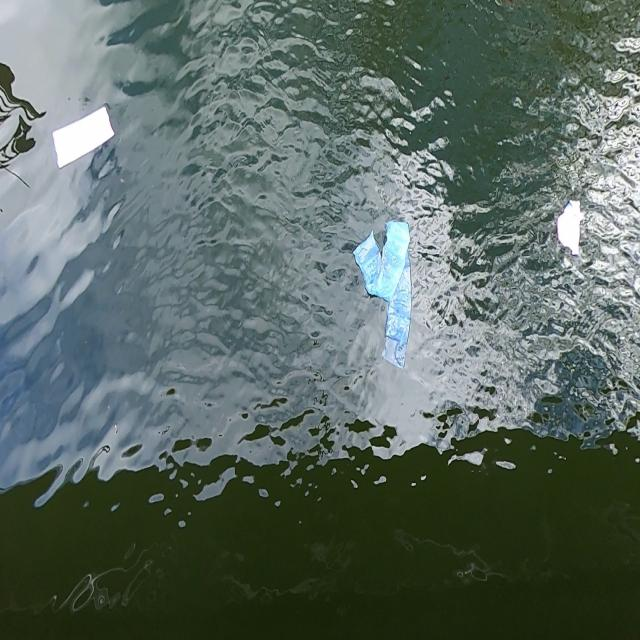Autre plastique: (49, 101, 120, 174), (552, 194, 586, 262)
Sac plastique: (348, 214, 417, 378)
